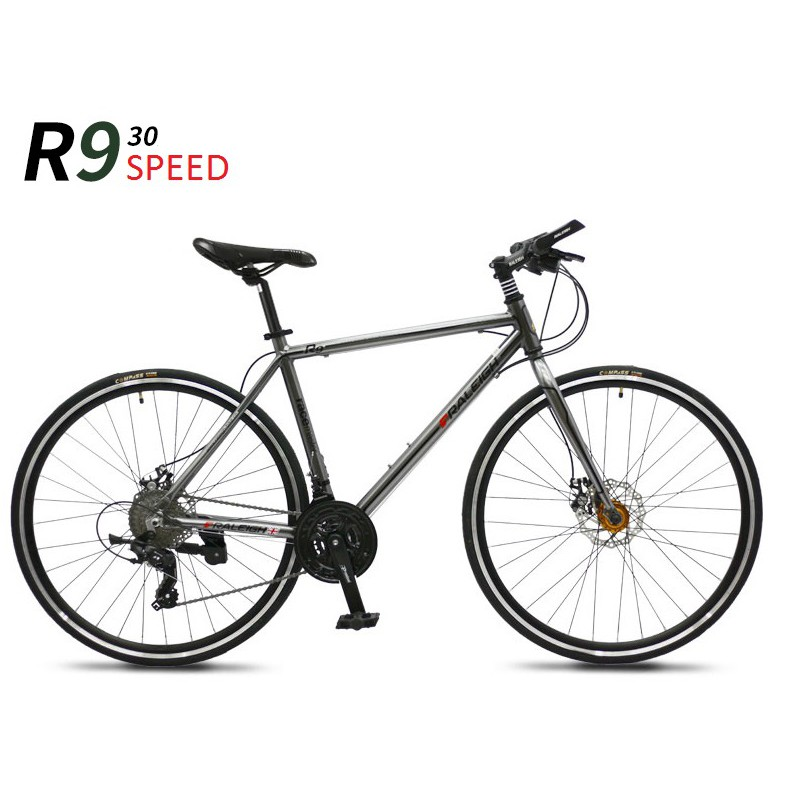bicycle: (10, 217, 766, 672)
